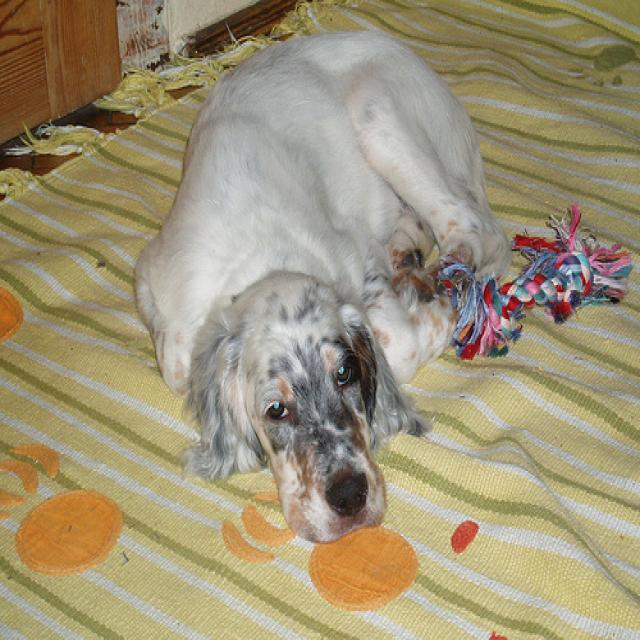dog-english_setter: (125, 15, 509, 543)
